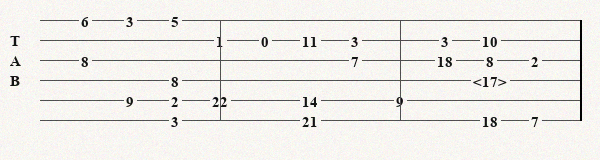0: (261, 33, 273, 47)
1: (216, 33, 228, 47)
10: (482, 33, 502, 47)
11: (302, 33, 322, 47)
14: (302, 93, 322, 107)
18: (437, 53, 457, 67), (482, 113, 502, 127)
2: (171, 93, 183, 107), (531, 53, 543, 67)
21: (302, 113, 322, 127)
22: (212, 93, 232, 107)
3: (126, 13, 138, 27), (171, 113, 183, 127), (351, 33, 363, 47), (441, 33, 453, 47)
5: (171, 13, 183, 27)
6: (81, 13, 93, 27)
7: (351, 53, 363, 67), (531, 113, 543, 127)
8: (81, 53, 93, 67), (171, 73, 183, 87), (486, 53, 498, 67)
9: (126, 93, 138, 107), (396, 93, 408, 107)
harmonic: (473, 73, 511, 87)
